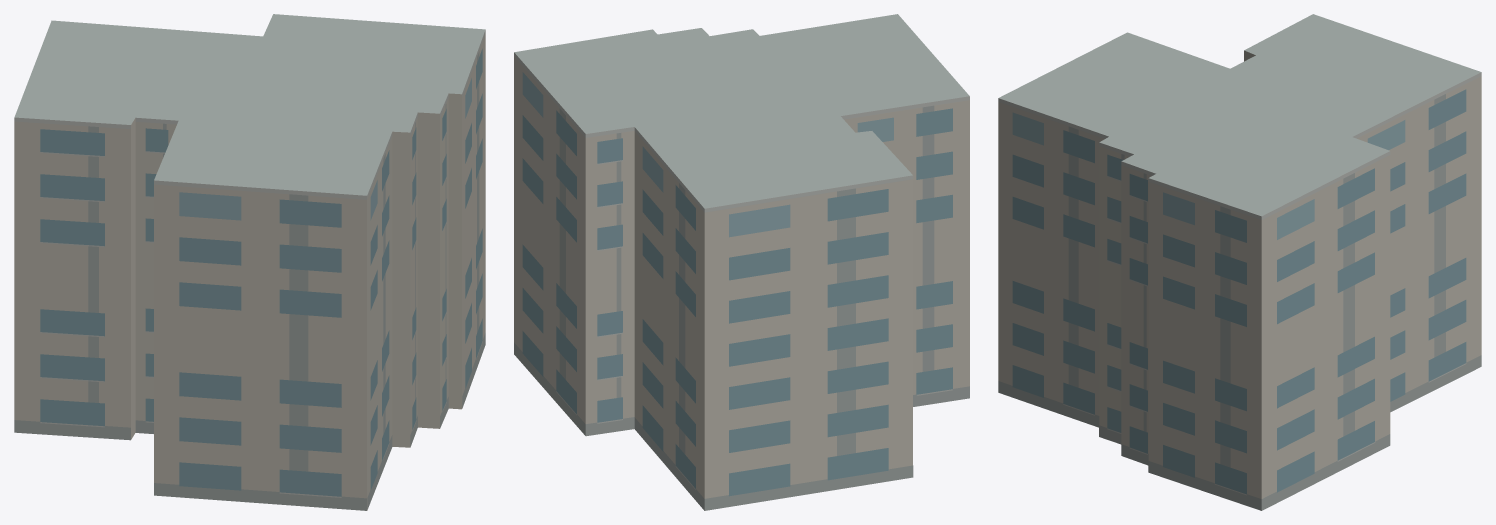
The model's file is survey-upis-32512014.glb.
The picture shows the model from 3 angles, left to right: view 1: azimuth 30°, elevation 25°; view 2: azimuth 150°, elevation 25°; view 3: azimuth 270°, elevation 25°; orthographic projection. The views are drawn at different scales.
Visible parts, largest first — view 1: survey-upis-32512014.tmp; view 2: survey-upis-32512014.tmp; view 3: survey-upis-32512014.tmp.
Boxes of the visible parts, x1,y1,x2,y2 form: survey-upis-32512014.tmp: [14, 14, 485, 510]; survey-upis-32512014.tmp: [514, 14, 969, 510]; survey-upis-32512014.tmp: [998, 14, 1481, 510].
Bounding box in the file's own units: 27.86 × 18.9 × 28.12.
